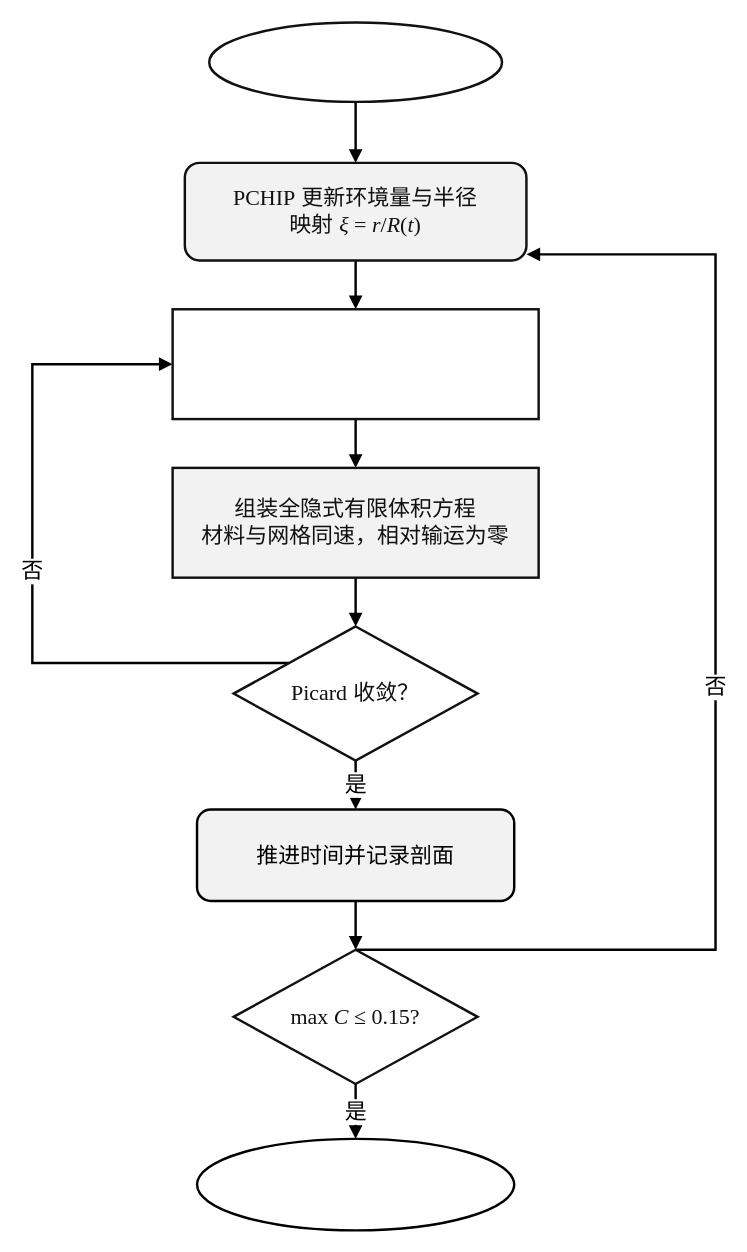
Some shapes in this 747 by 1252 pixel diagram are drawn without their labels. Each missing label, with the centre of its shape:
"以前一迭代场计算 ρ , c p , k , D 及界面系数" belongs at (x=355, y=363).
"初始化 T , C , R" belongs at (x=355, y=61).
"线性插值首达时刻 输出结果与误差核验" belongs at (x=355, y=1184).
